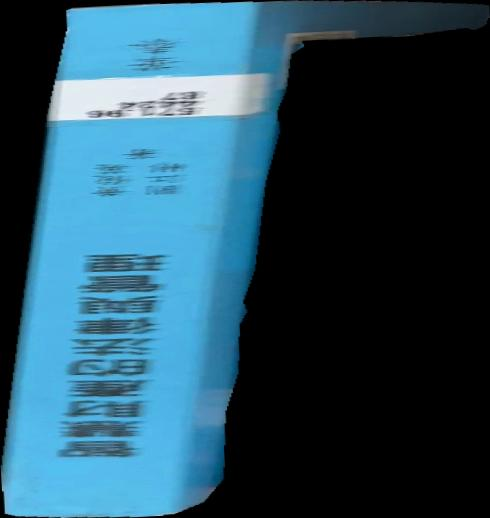reverse: (1, 1, 490, 518)
